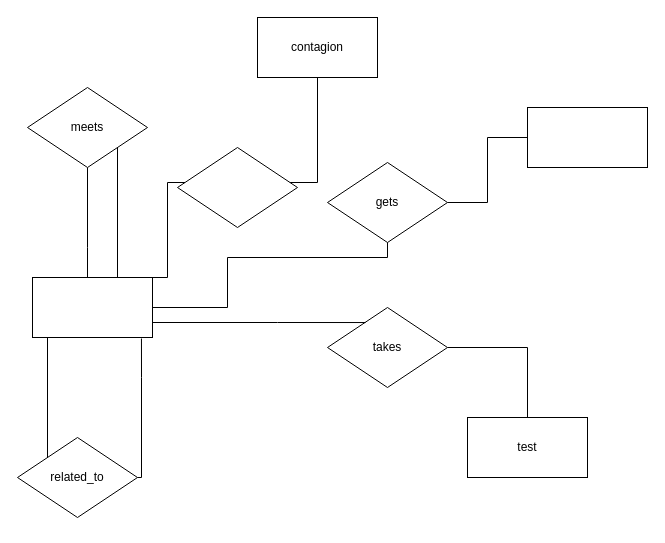
The diagram is 665 pixels wide and 543 high, and some of its shapes have lost their labels. The shapes that lost their labels are listed below. From the top down, each one's box as (x1, y1, x2, y2) in pixels, then its label:
(526, 106, 648, 168): vaccine
(176, 146, 298, 228): is
(32, 276, 152, 338): Person
